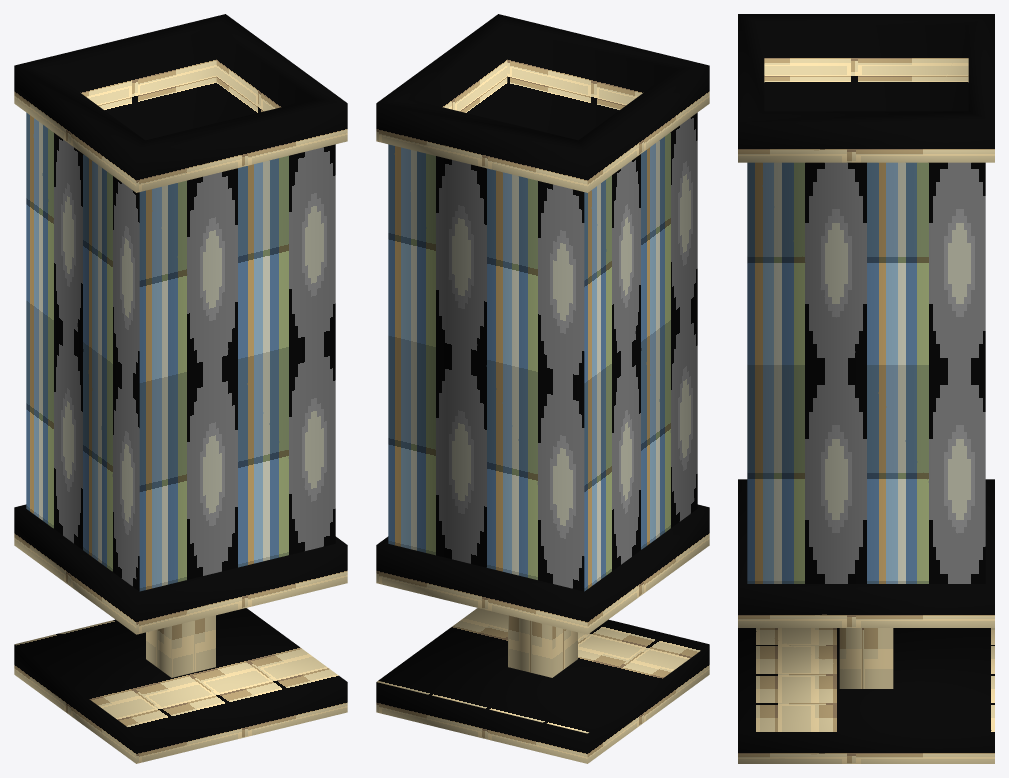
The model's file is 3121IMRL09_12.gltf.
The picture shows the model from 3 angles, left to right: view 1: azimuth 30°, elevation 25°; view 2: azimuth 150°, elevation 25°; view 3: azimuth 270°, elevation 25°; orthographic projection. The views are drawn at different scales.
Parts seen in each view (by area): view 1: 3121IMRL09_12; view 2: 3121IMRL09_12; view 3: 3121IMRL09_12.
Boxes of the visible parts, x1,y1,x2,y2 form: 3121IMRL09_12: [14, 14, 347, 763]; 3121IMRL09_12: [376, 14, 709, 763]; 3121IMRL09_12: [738, 14, 994, 763].
Bounding box in the file's own units: 0.3999 × 1.1 × 0.3999.
Materials: 3 (3 with a texture image).
